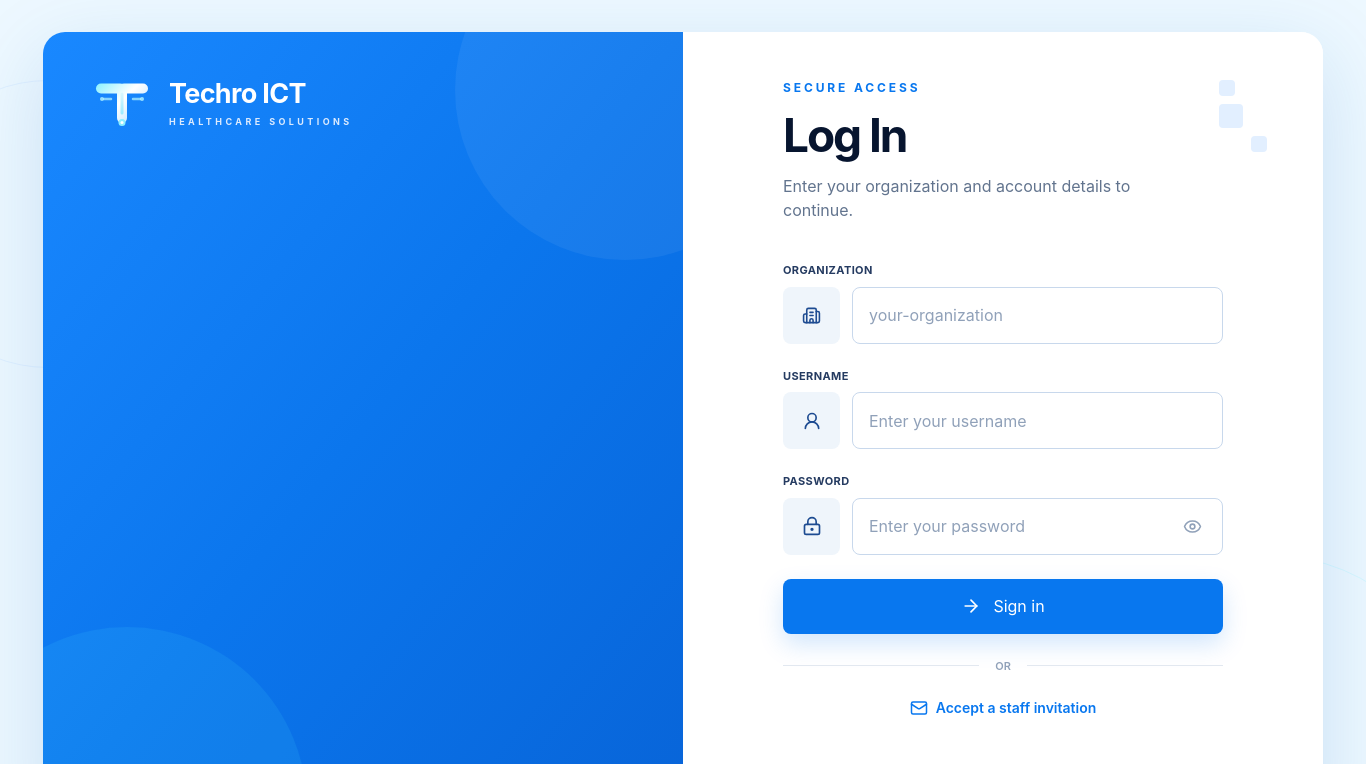
Scenario: shows the server's subscription notice to owner without completing login
Type "demo" into the field with placeholder "your-organization". click: (1038,315)
box: [865, 288, 1210, 342]
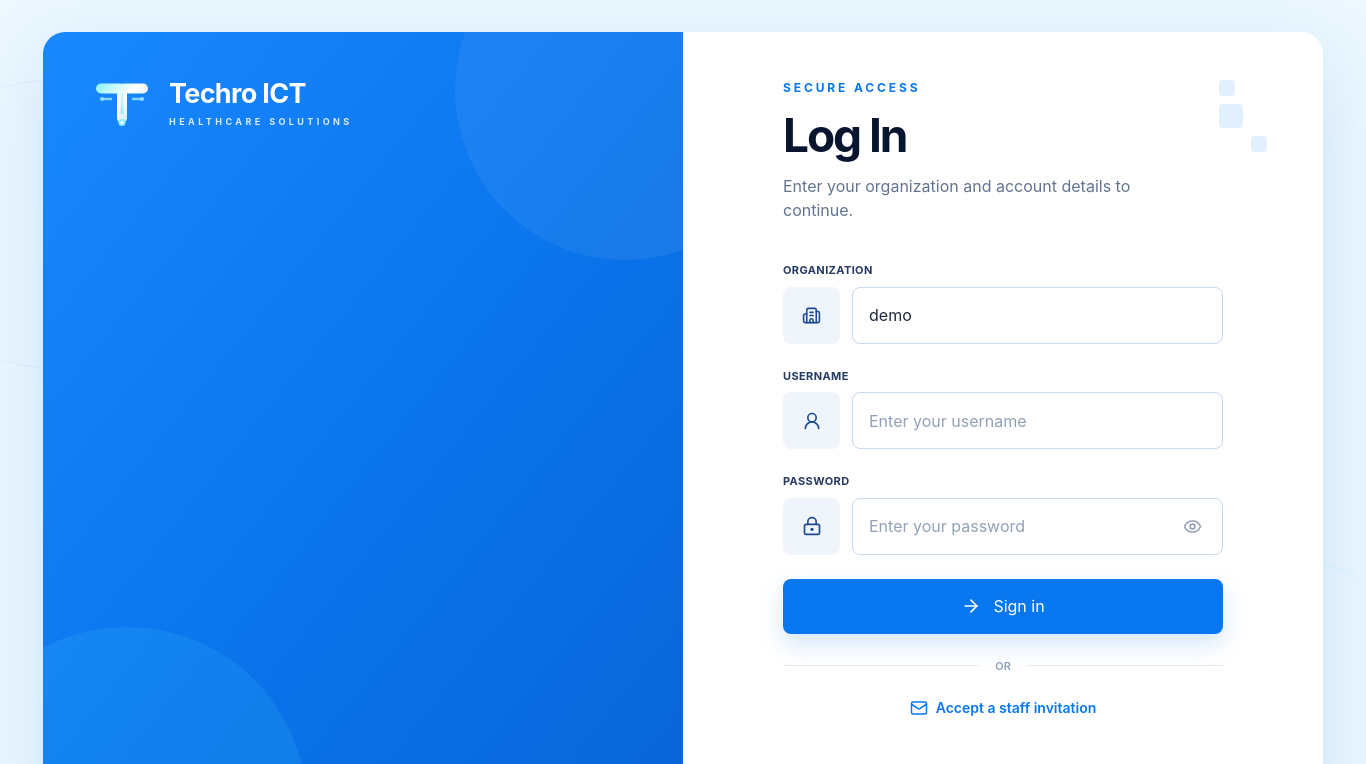
Type "owner" into the field with placeholder "Enter your username". click: (1038,420)
box: [865, 393, 1210, 448]
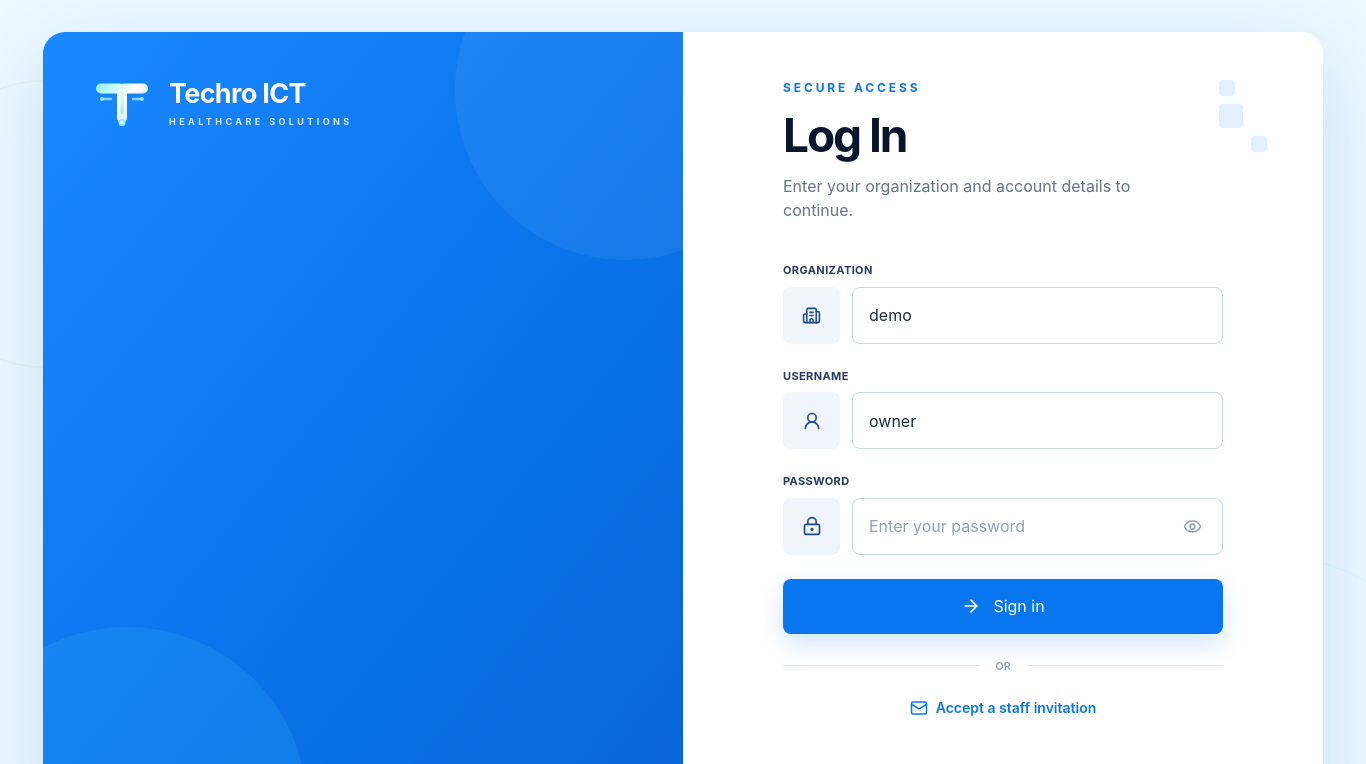
Type "synthetic-password" into the password field with placeholder "Enter your password". click: (1020,526)
box: [865, 498, 1174, 554]
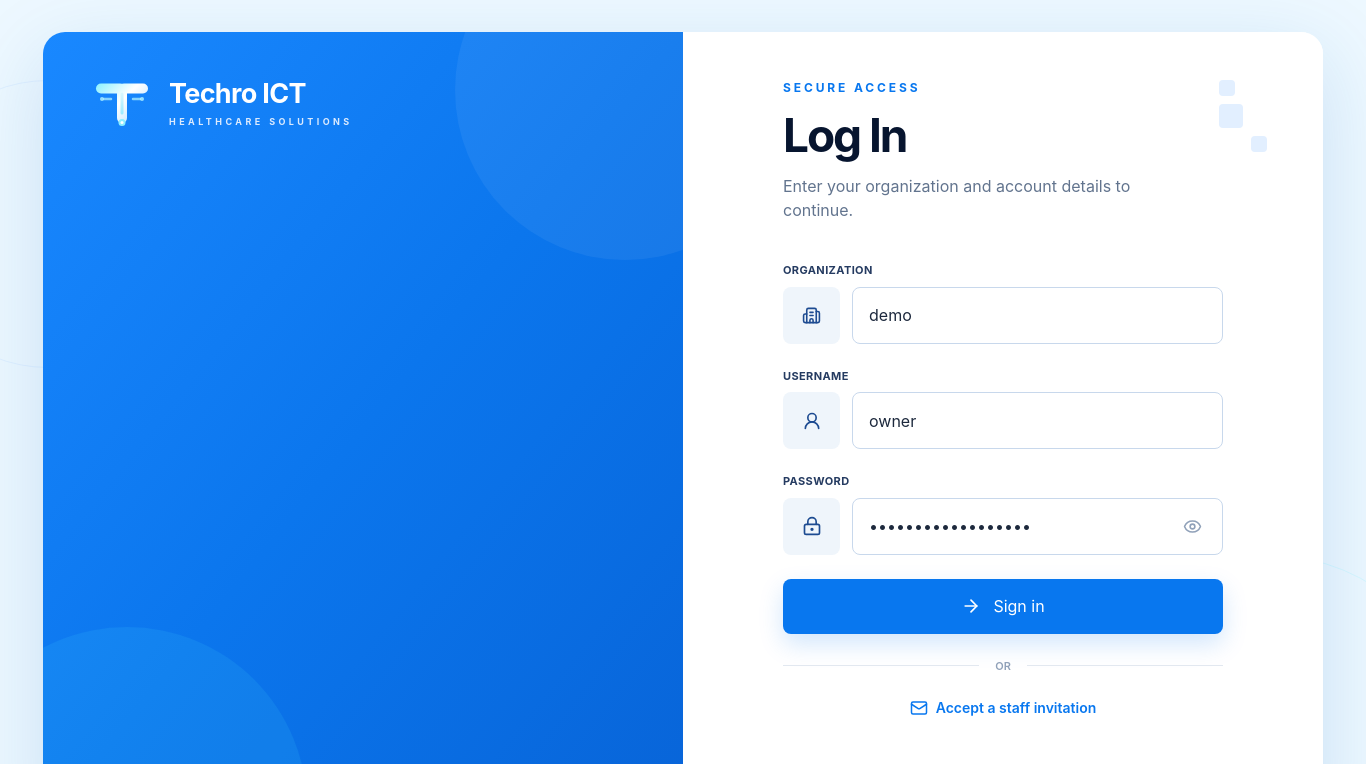
Click the button "Sign in". click: (1003,606)
box: [783, 578, 1223, 634]
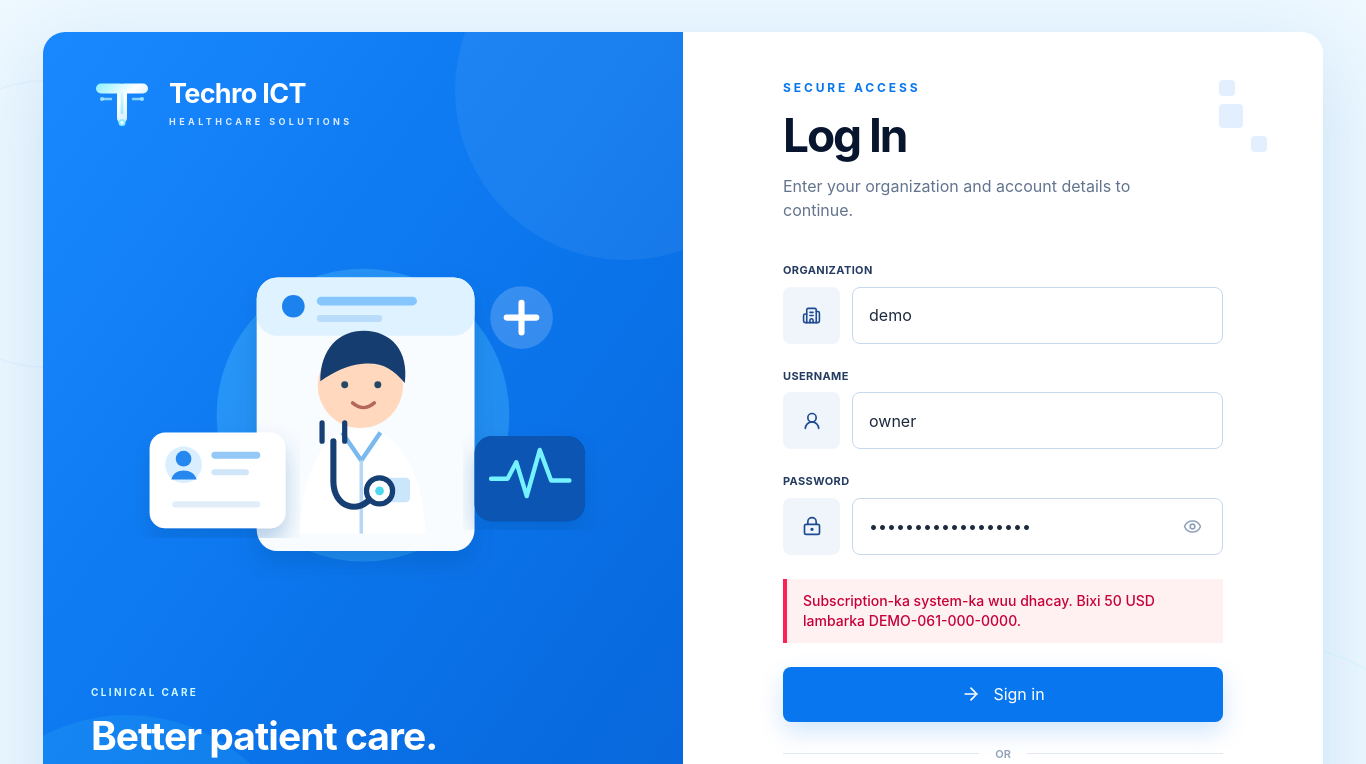
Result: the text "Subscription-ka system-ka wuu dhacay. Bixi 50 USD lambarka DEMO-061-000-0000." is shown at [803, 590, 1207, 630]
